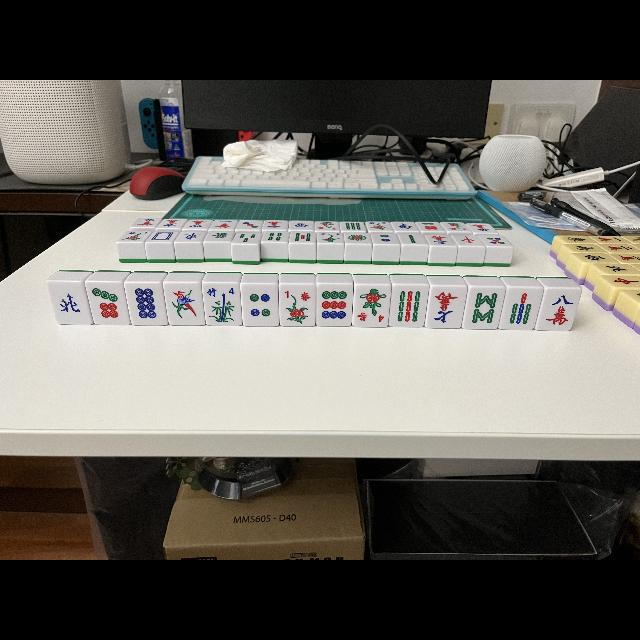b1: (163, 283, 205, 325)
b7: (501, 286, 537, 330)
b8: (463, 286, 501, 328)
b9: (391, 285, 425, 327)
c7: (426, 286, 462, 328)
c8: (538, 288, 578, 332)
d4: (241, 284, 279, 326)
d7: (85, 281, 129, 325)
d8: (124, 282, 168, 326)
d9: (317, 284, 351, 326)
f4: (202, 282, 242, 300)
s1: (279, 284, 315, 302)
s4: (354, 309, 388, 327)
wn: (48, 281, 92, 325)
